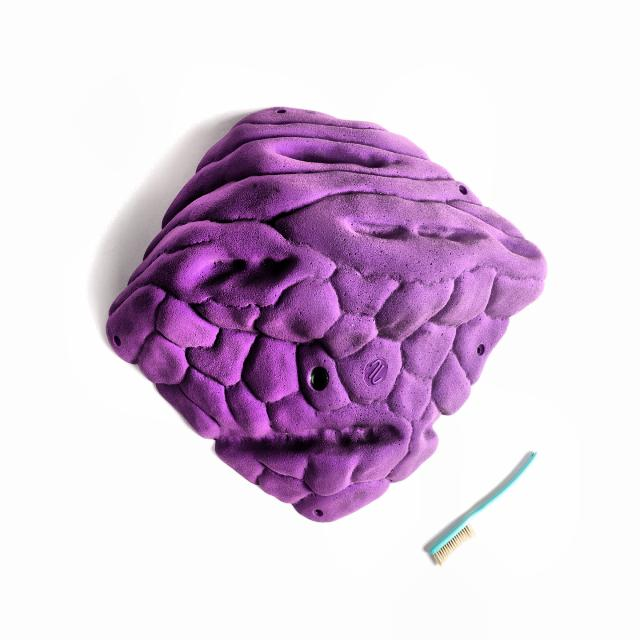Hold: (103, 101, 551, 526)
